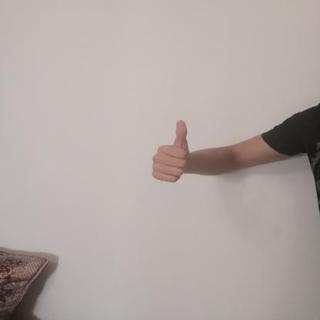ALIF: (139, 113, 207, 188)
